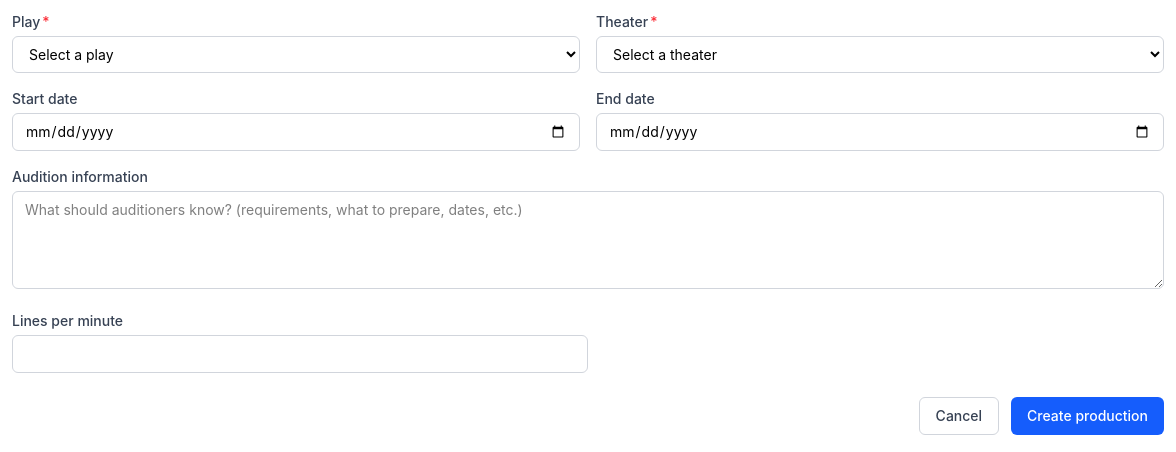
Test: ProductionForm — audition information visibility › hides audition information when creating a production for a fake/dream theater
The width and height of the screenshot is (1176, 452).
Select "Verify's Dream Theater" in the dropdown below "Theater" at (880, 54), box [596,36,1164,73]
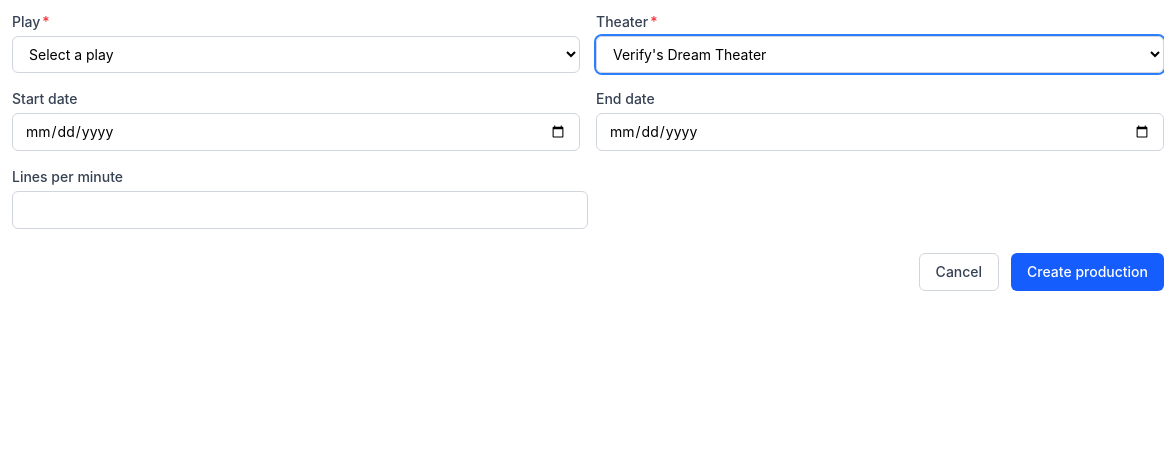
Check: the text "Audition information" is gone
